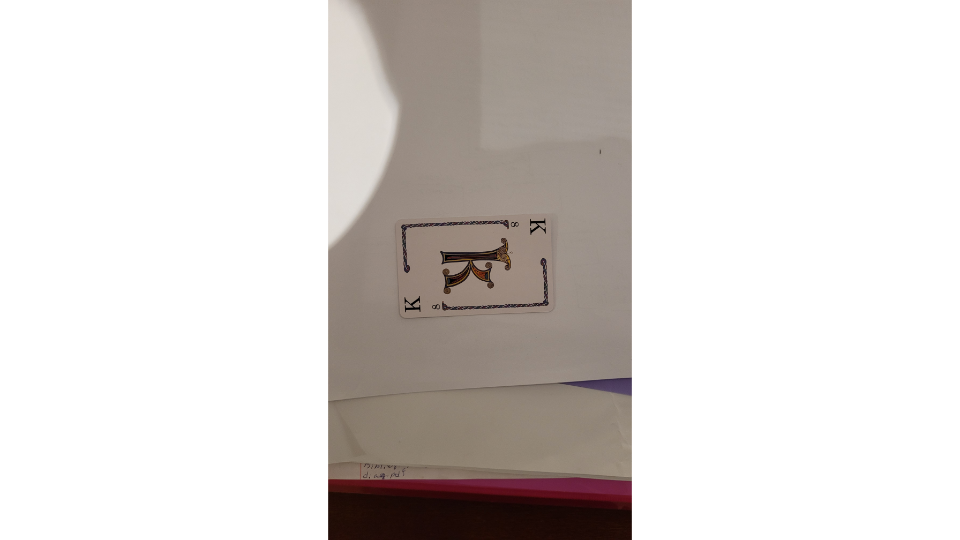K: (394, 210, 562, 321)
